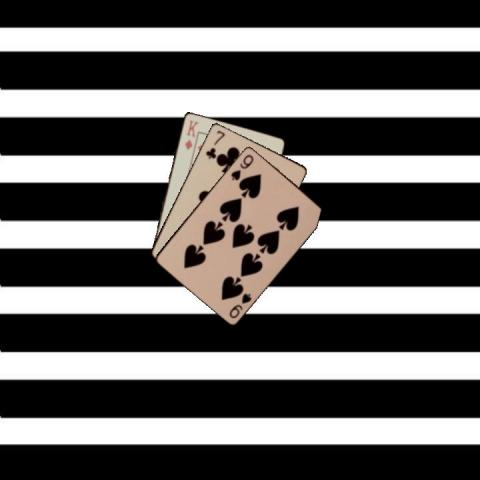7c: (203, 127, 226, 160)
9s: (228, 152, 255, 182), (226, 290, 253, 319)
Kd: (182, 117, 199, 150)
